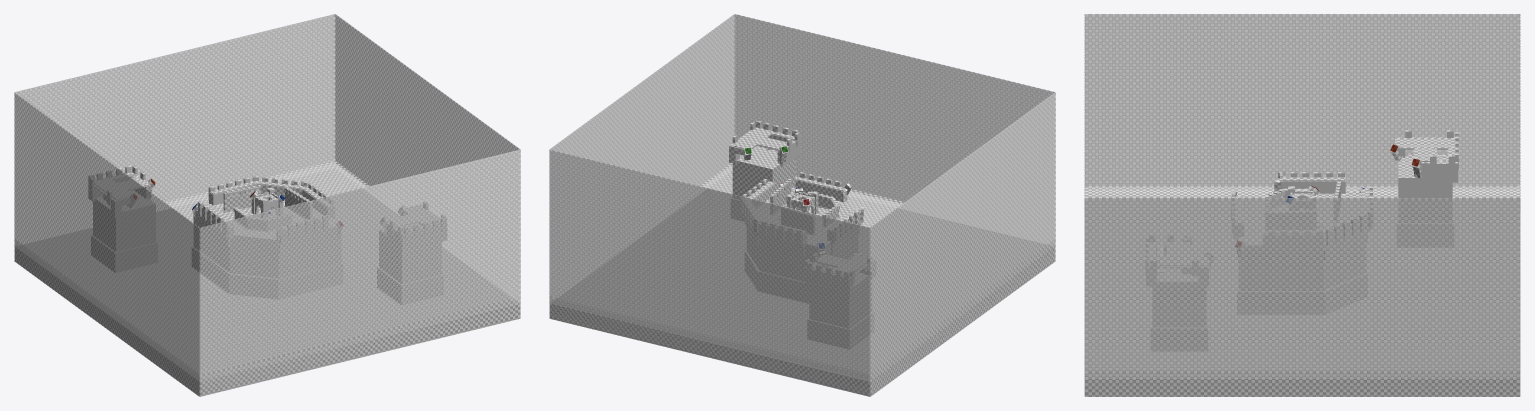
File: Towers.obj
3 renders of one model, left to right at view 1: azimuth 30°, elevation 25°; view 2: azimuth 150°, elevation 25°; view 3: azimuth 270°, elevation 25°, orthographic. The views are drawn at different scales.
Parts seen in each view (by area): view 1: Part51, Part1, Part93, Part58, Part47, Part89, Part54, Part436, Part45, Part432, Part87, Part689 (+22 smaller); view 2: Part89, Part1, Part93, Part58, Part47, Part51, Part54, Part436, Part432, Part4, Part689, Part696 (+19 smaller); view 3: Part432, Part1, Part54, Part436, Part58, Part430, Part52, Part703, Part26, Part143, Part689, Part717 (+21 smaller).
Part boxes in pixels (x1,y1,x2,y2): Part51: (200,150,520,396); Part1: (15,173,519,396); Part93: (15,15,335,203); Part58: (14,93,199,395); Part47: (200,150,519,373); Part89: (17,14,334,201); Part54: (15,94,199,374); Part436: (335,15,518,186); Part45: (200,151,519,373); Part432: (336,16,519,185); Part87: (18,15,334,201); Part689: (93,190,155,251); Part89: (549,150,869,395); Part1: (550,175,1054,396); Part93: (550,150,869,375); Part58: (870,93,1055,396); Part47: (734,14,1053,203); Part51: (735,15,1054,201); Part54: (870,93,1054,373); Part436: (550,15,734,185); Part432: (549,15,733,316); Part4: (550,304,869,396); Part689: (809,266,872,328); Part696: (759,217,857,281); Part432: (1085,198,1519,396); Part1: (1085,196,1519,396); Part54: (1085,14,1519,188); Part436: (1085,198,1519,369); Part58: (1085,14,1519,186); Part430: (1086,198,1518,369); Part52: (1086,14,1518,185); Part703: (1239,210,1323,290); Part26: (1085,186,1519,197); Part143: (1152,268,1206,326); Part689: (1398,155,1452,222); Part717: (1237,255,1324,314).
Bounding box in the file's own units: 514 × 259 × 514.
